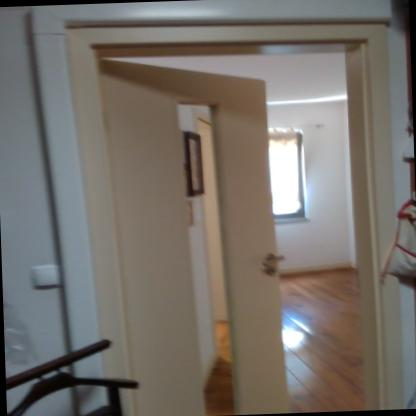semi: (91, 14, 408, 416)
